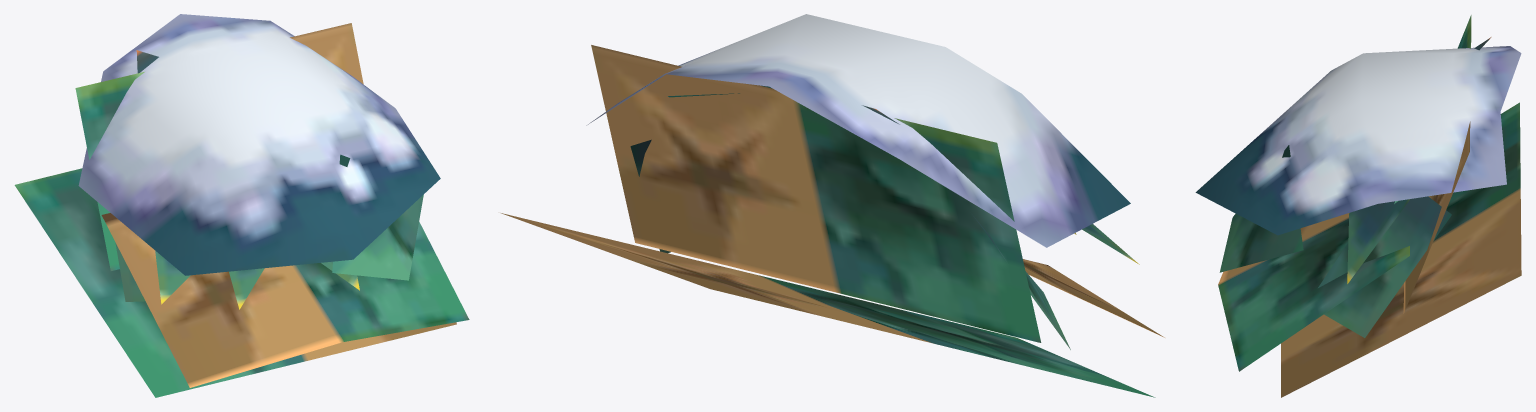
The model's file is fg_bushC_2_bl.dae.
3 views of the same model, side by side, from view 1: azimuth 30°, elevation 25°; view 2: azimuth 150°, elevation 25°; view 3: azimuth 270°, elevation 25° (orthographic). The views are drawn at different scales.
Visible parts, largest first — view 1: fg_bushC_2_bl; view 2: fg_bushC_2_bl; view 3: fg_bushC_2_bl.
Part boxes in pixels (x1,y1,x2,y2): fg_bushC_2_bl: (14,14,469,397); fg_bushC_2_bl: (501,14,1164,397); fg_bushC_2_bl: (1195,15,1521,397).
Bounding box in the file's own units: 47.83 × 34.27 × 38.04.
Materials: 1 (1 with a texture image).
